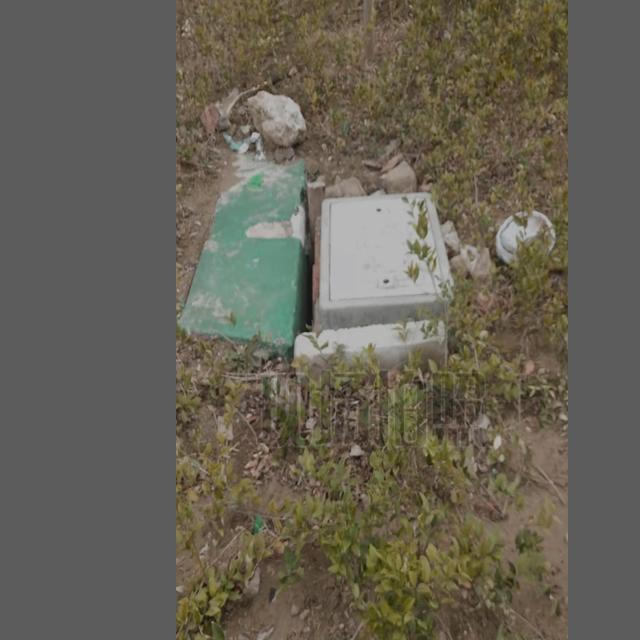circle: (291, 180, 464, 358)
